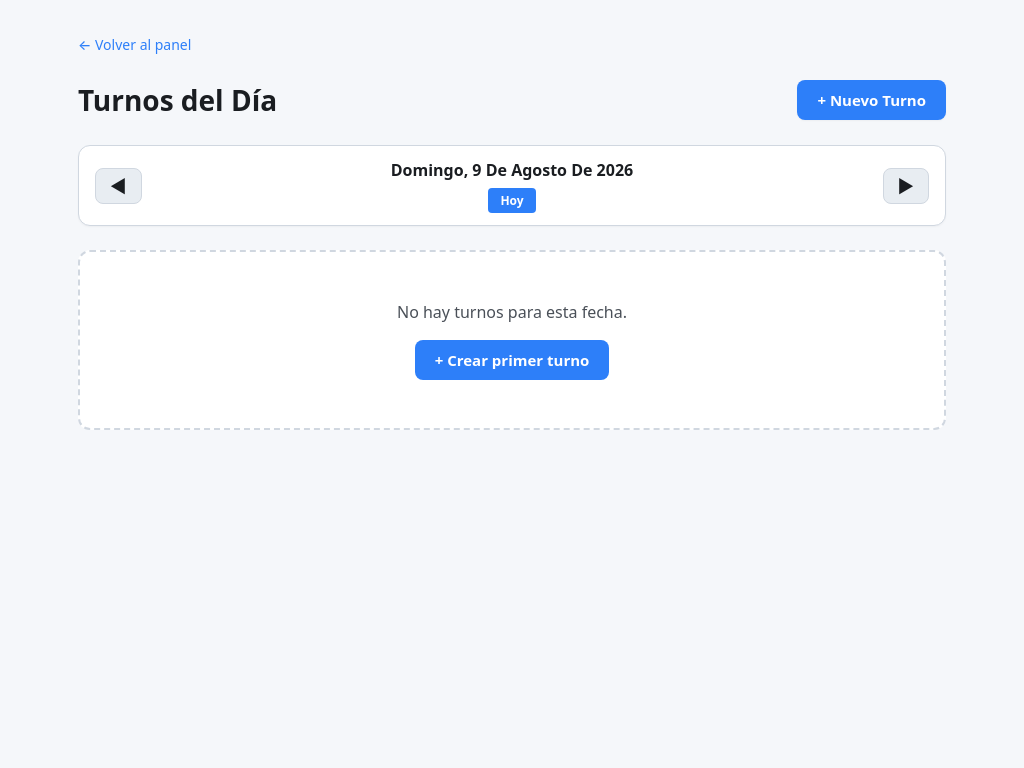
Test: Turnos page › "Create" button opens modal with TurnoForm
The width and height of the screenshot is (1024, 768).
Expected: the text "No hay turnos para esta fecha." is shown, [397,301,627,323]
Click the button "+ Nuevo Turno" at (872, 100), box [797,80,946,120]
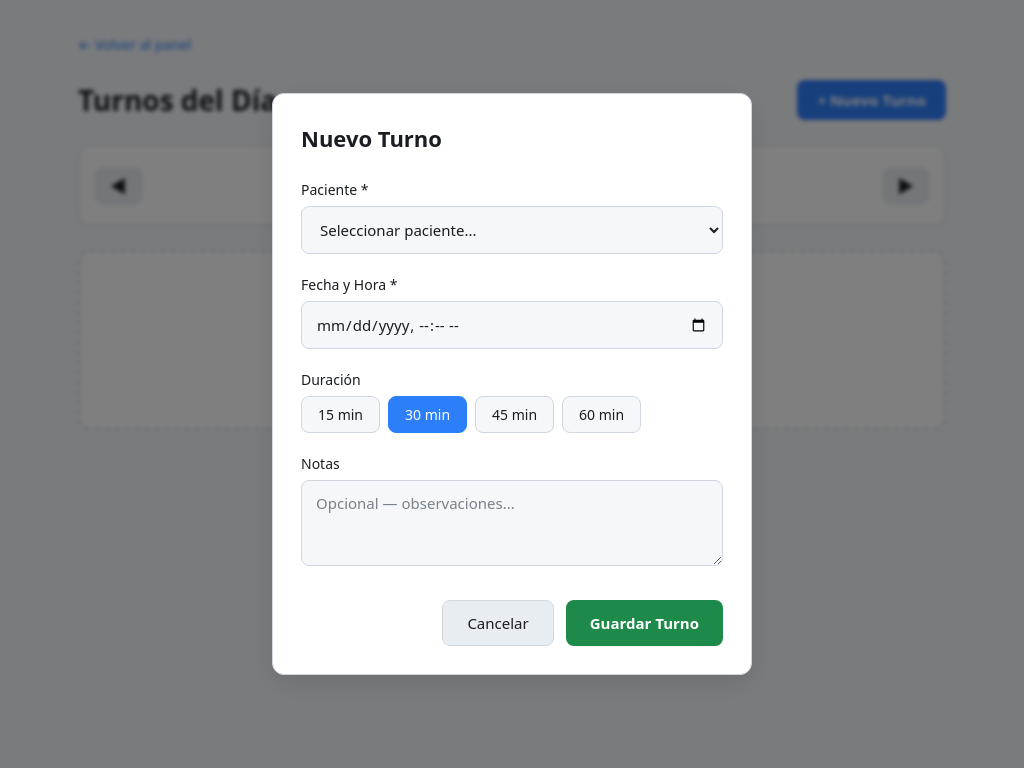
Now the button "Guardar Turno" is shown, box [566,600,723,646]
Now the dropdown labelled "Paciente *" is shown, box [301,206,723,254]
